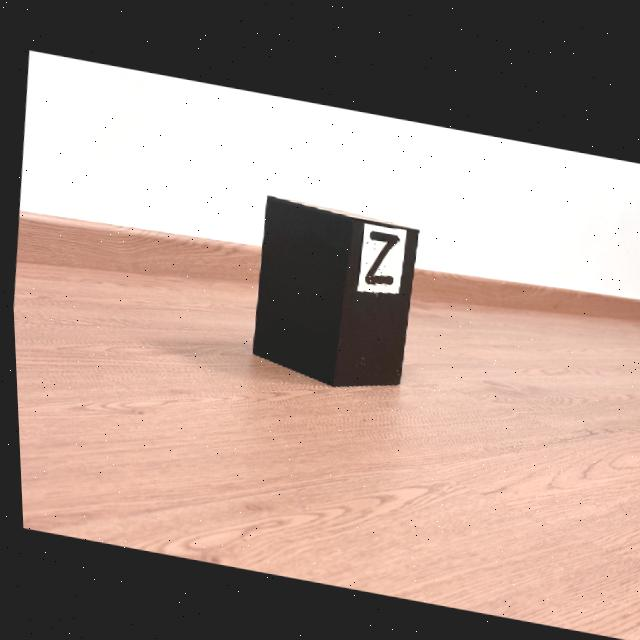Z: (362, 225, 397, 279)
